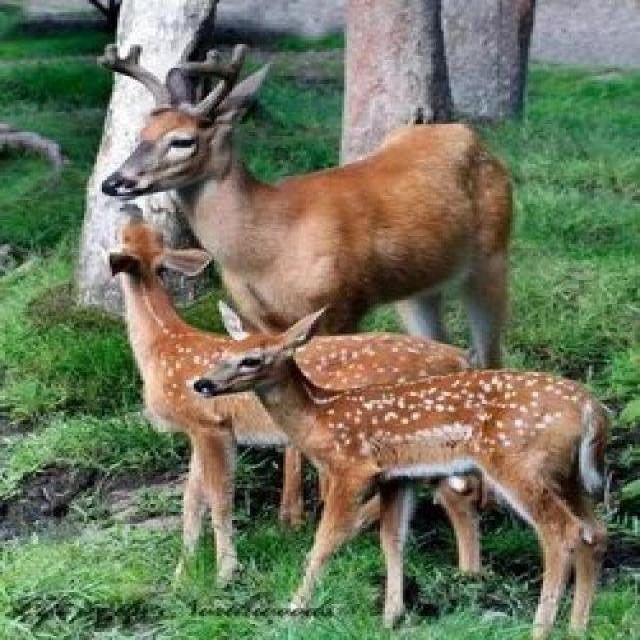deer: (78, 22, 494, 330), (81, 216, 478, 505), (228, 327, 628, 565)
